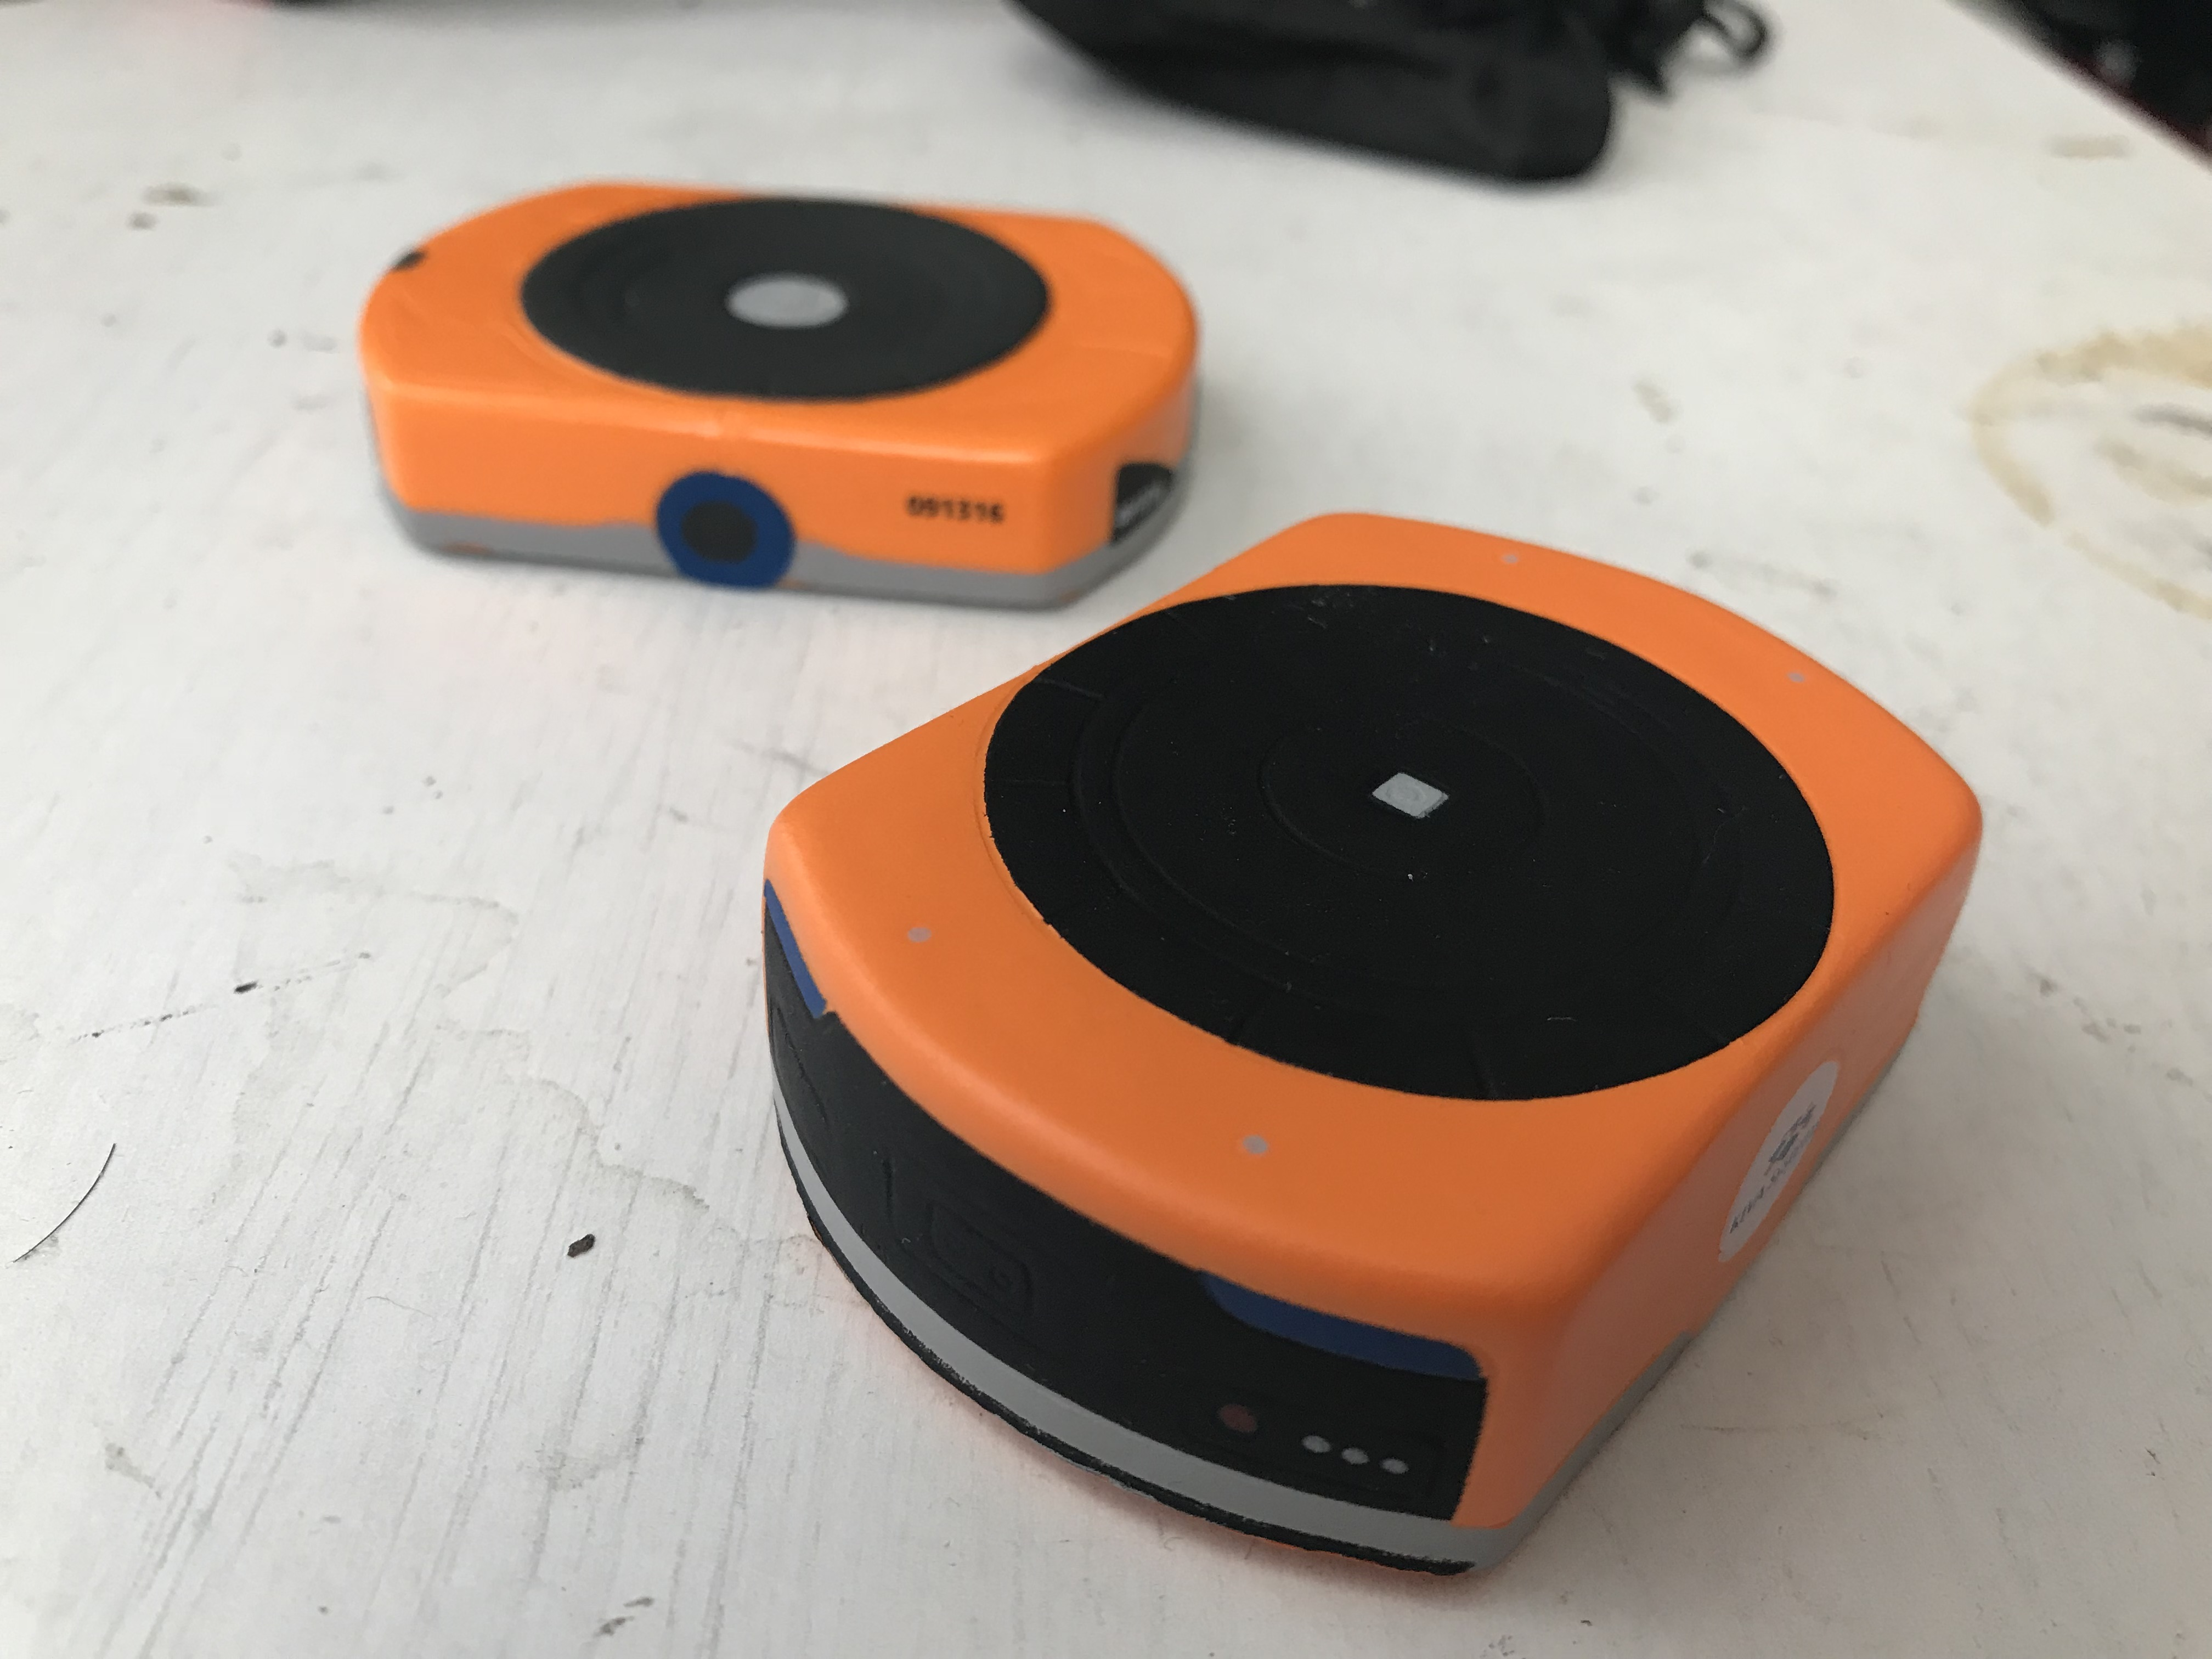amazon_bot: (751, 511, 2012, 1579), (352, 153, 1205, 599)
